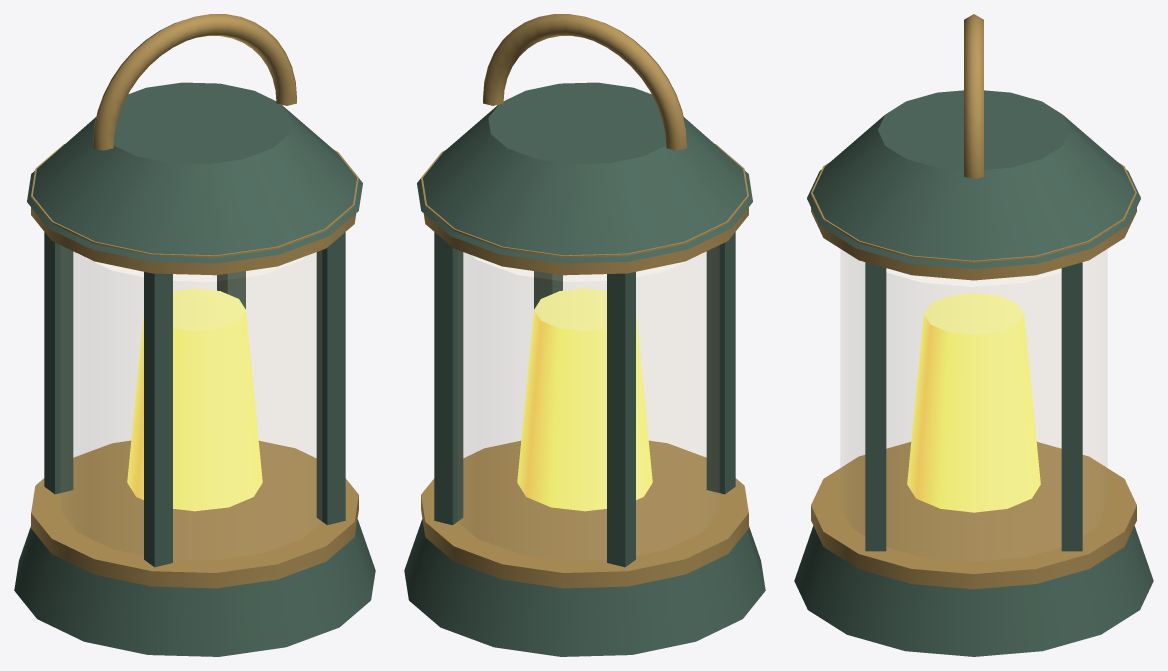
Rendered from camping-lantern.gltf.
The picture shows the model from 3 angles, left to right: view 1: azimuth 30°, elevation 25°; view 2: azimuth 150°, elevation 25°; view 3: azimuth 270°, elevation 25°; orthographic projection.
Parts seen in each view (by area): view 1: Glass enclosure, Cap, Brass rim, Base, Warm light, Frame rail -0.235 0.235, Frame rail 0.235 0.235, Frame rail -0.235 -0.235, Handle, Top rim, Frame rail 0.235 -0.235; view 2: Glass enclosure, Cap, Brass rim, Base, Warm light, Frame rail -0.235 -0.235, Frame rail 0.235 -0.235, Frame rail -0.235 0.235, Handle, Top rim, Frame rail 0.235 0.235; view 3: Glass enclosure, Cap, Brass rim, Warm light, Base, Frame rail 0.235 -0.235, Frame rail 0.235 0.235, Top rim, Handle.
Boxes of the visible parts, left/top/right/bottom form: Glass enclosure: left=61, top=246, right=321, bottom=559; Cap: left=27, top=82, right=362, bottom=263; Brass rim: left=31, top=440, right=358, bottom=588; Base: left=14, top=519, right=375, bottom=656; Warm light: left=127, top=288, right=262, bottom=511; Frame rail -0.235 0.235: left=144, top=272, right=172, bottom=567; Frame rail 0.235 0.235: left=316, top=232, right=345, bottom=525; Frame rail -0.235 -0.235: left=44, top=232, right=73, bottom=494; Handle: left=93, top=14, right=296, bottom=150; Top rim: left=31, top=144, right=358, bottom=275; Frame rail 0.235 -0.235: left=217, top=271, right=245, bottom=309; Glass enclosure: left=458, top=246, right=718, bottom=559; Cap: left=417, top=82, right=752, bottom=263; Brass rim: left=421, top=440, right=748, bottom=588; Base: left=404, top=519, right=765, bottom=656; Warm light: left=517, top=288, right=652, bottom=511; Frame rail -0.235 -0.235: left=607, top=272, right=635, bottom=567; Frame rail 0.235 -0.235: left=434, top=232, right=463, bottom=525; Frame rail -0.235 0.235: left=706, top=232, right=735, bottom=494; Handle: left=483, top=14, right=686, bottom=150; Top rim: left=421, top=144, right=748, bottom=275; Frame rail 0.235 0.235: left=534, top=271, right=562, bottom=309; Glass enclosure: left=841, top=250, right=1106, bottom=560; Cap: left=807, top=90, right=1140, bottom=268; Brass rim: left=811, top=442, right=1136, bottom=589; Warm light: left=907, top=292, right=1040, bottom=512; Base: left=794, top=526, right=1153, bottom=656; Frame rail 0.235 -0.235: left=1061, top=262, right=1082, bottom=551; Frame rail 0.235 0.235: left=865, top=262, right=886, bottom=551; Top rim: left=811, top=162, right=1136, bottom=280; Handle: left=964, top=14, right=983, bottom=178.
Size of the model in its own units: 0.86 by 1.47 by 0.86.
